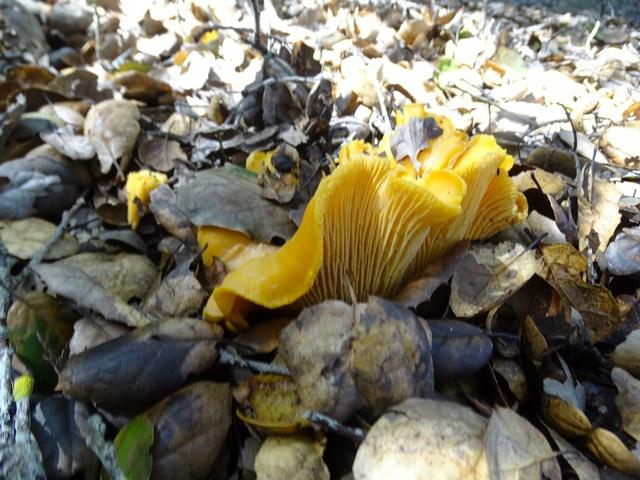Edible Mushroom: (200, 102, 528, 330)
